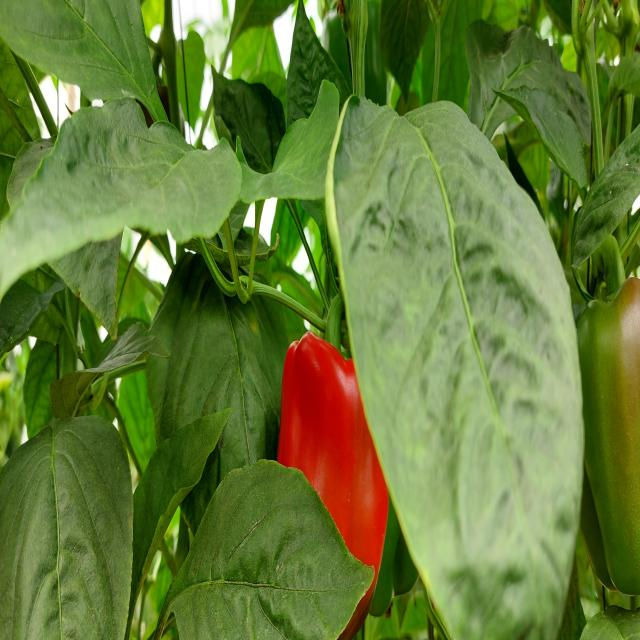BrownishRed--Can-be-Harvested: (566, 293, 640, 599)
Red-Ready-to-Harvest: (269, 319, 392, 626)
